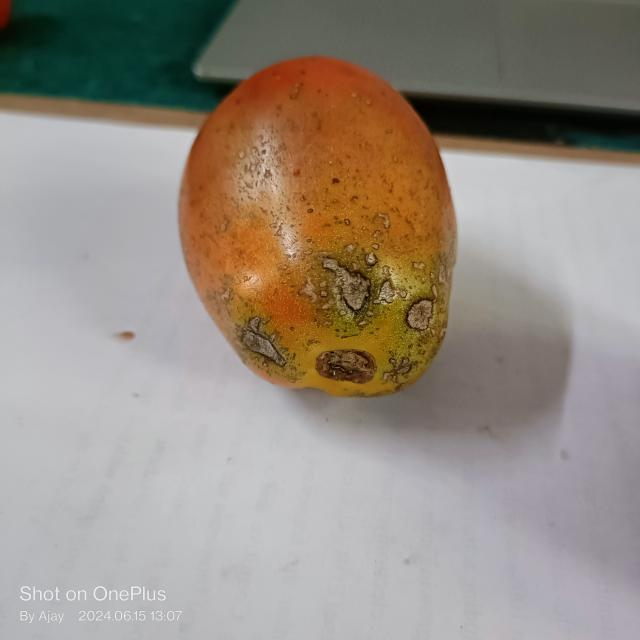Bacterial_Spot: (299, 244, 389, 330), (237, 322, 281, 374), (320, 349, 375, 382), (405, 298, 439, 332)
